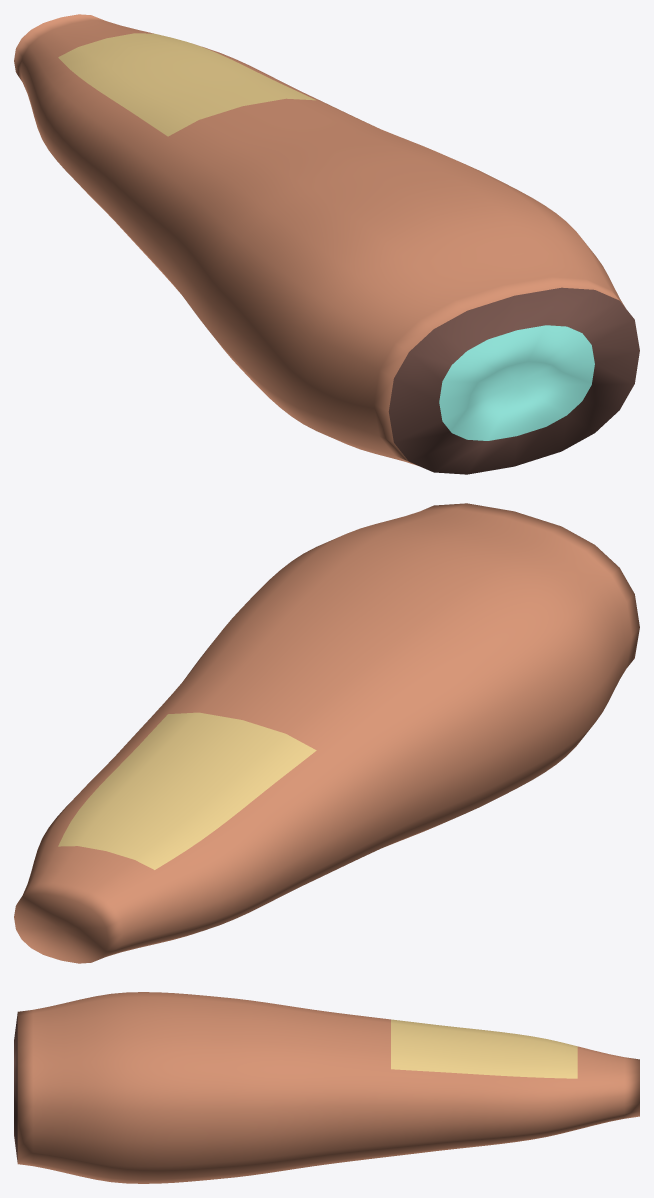
The model's file is vos_ff.glb.
3 views of the same model, one above another, from view 1: azimuth 30°, elevation 25°; view 2: azimuth 150°, elevation 25°; view 3: azimuth 270°, elevation 25° (orthographic). The views are drawn at different scales.
Parts seen in each view (by area): view 1: hull_mesh; view 2: hull_mesh; view 3: hull_mesh.
Part boxes in pixels (x1=…): hull_mesh: x1=14, y1=14, x2=639, y2=474; hull_mesh: x1=14, y1=503, x2=639, y2=963; hull_mesh: x1=14, y1=992, x2=639, y2=1183.
Size of the model in its own units: 20.15 by 13.1 by 50.3.
